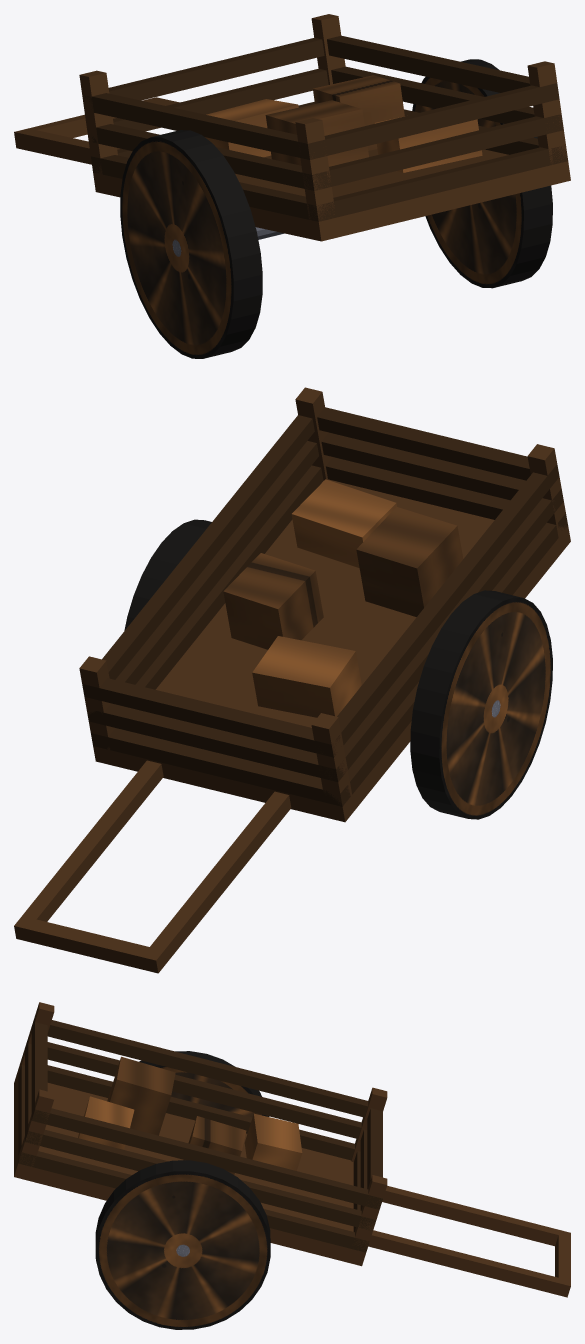
File: holzwagen_t2_blur_halb_world.fbx
3 renders of one model, top to bottom at view 1: azimuth 30°, elevation 25°; view 2: azimuth 150°, elevation 25°; view 3: azimuth 270°, elevation 25°, orthographic. The views are drawn at different scales.
Parts seen in each view (by area): view 1: Holzwagen_T2_blur; view 2: Holzwagen_T2_blur; view 3: Holzwagen_T2_blur.
Boxes of the visible parts, x1,y1,x2,y2 form: Holzwagen_T2_blur: [14, 14, 570, 358]; Holzwagen_T2_blur: [14, 387, 570, 973]; Holzwagen_T2_blur: [14, 1002, 570, 1329].
Size of the model in its own units: 110 by 94.74 by 216.
